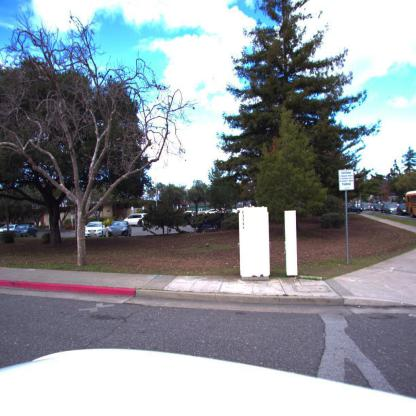bus: (405, 191, 416, 216)
car: (6, 224, 38, 238), (107, 221, 131, 238), (85, 221, 106, 237), (126, 214, 146, 227), (381, 203, 400, 214), (396, 203, 409, 215), (374, 202, 384, 211), (361, 203, 372, 211)
